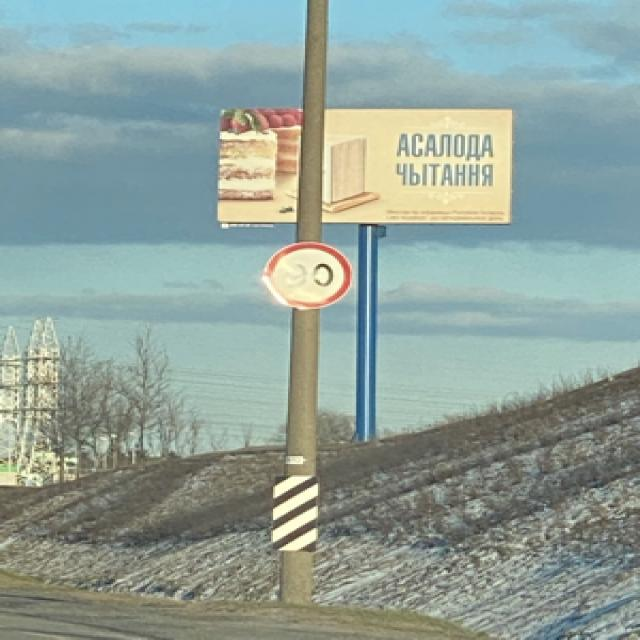speedlimit: (260, 242, 346, 307)
